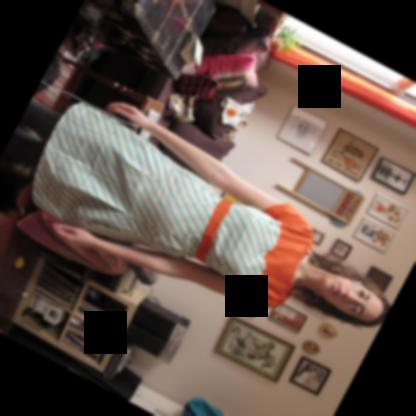handbag: (161, 92, 199, 121), (185, 395, 226, 416)
